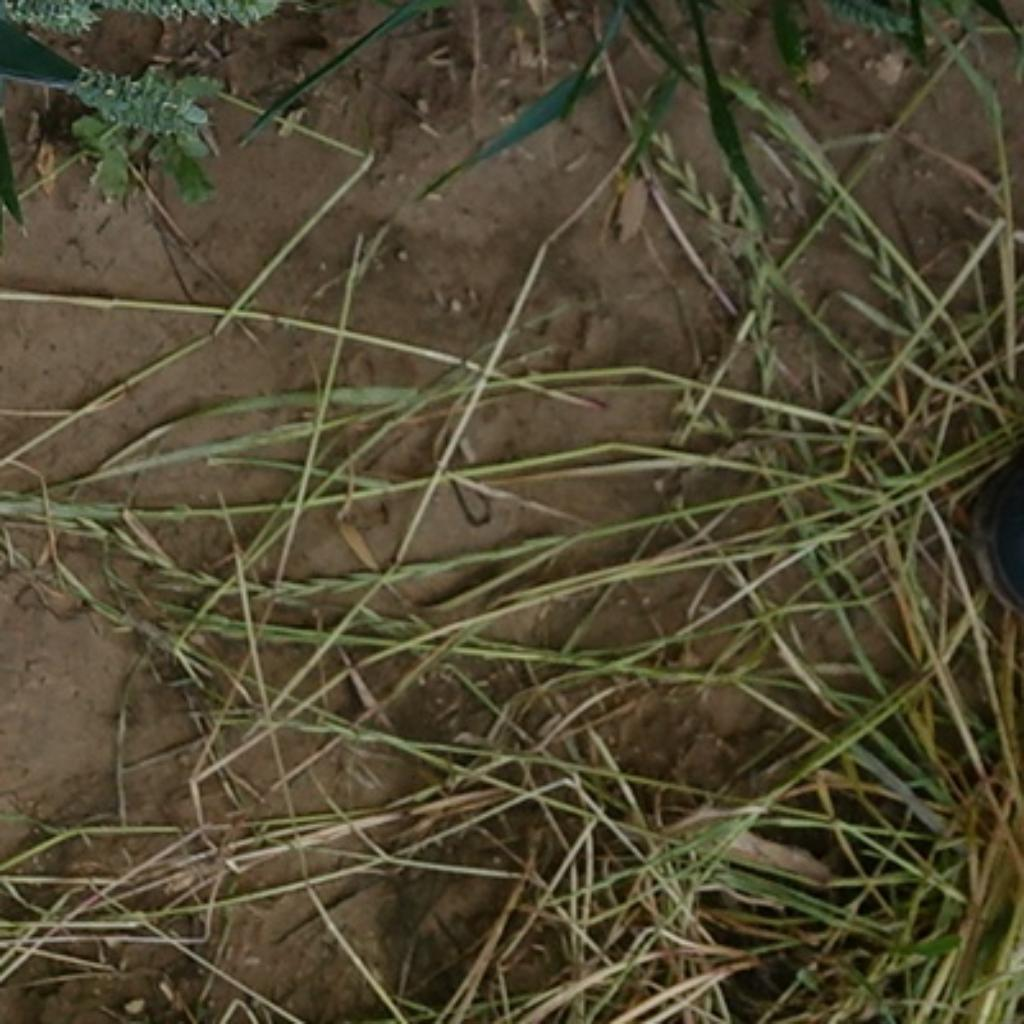0-0: (70, 57, 226, 157), (808, 0, 911, 63), (81, 0, 286, 28), (0, 0, 97, 35)
